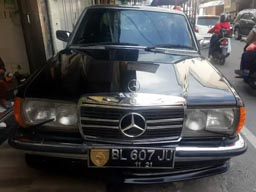plat: (88, 148, 174, 161)
